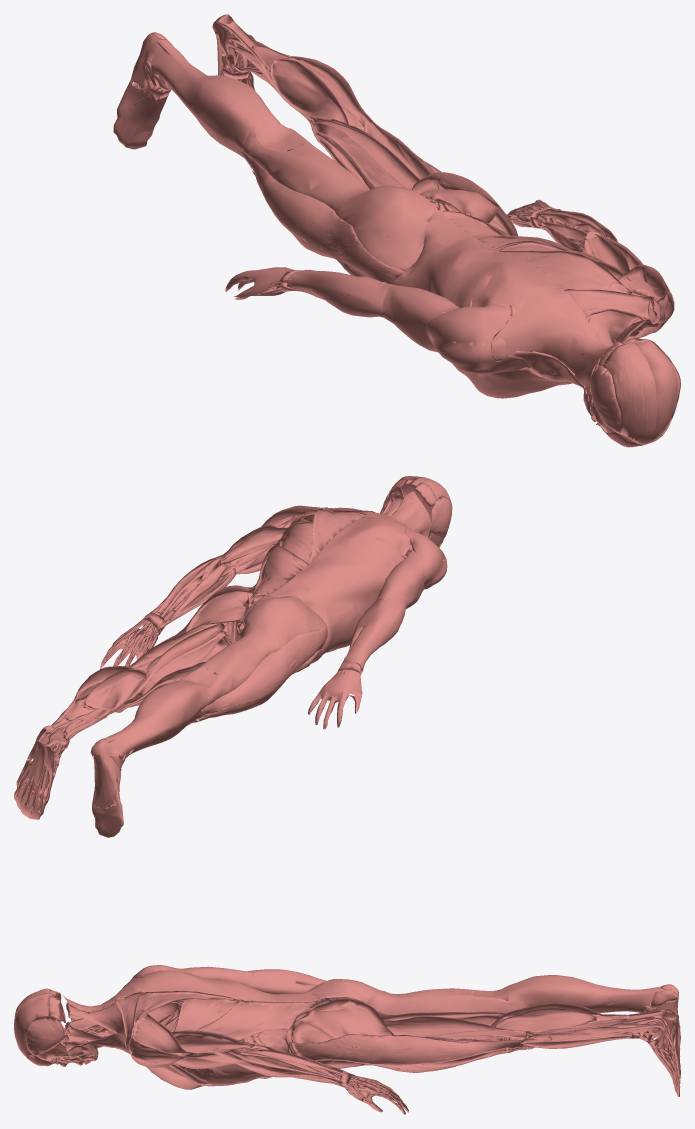
The model's file is overview__muscular.4a6a88096d.glb.
3 renders of one model, top to bottom at view 1: azimuth 30°, elevation 25°; view 2: azimuth 150°, elevation 25°; view 3: azimuth 270°, elevation 25°, orthographic. The views are drawn at different scales.
Parts seen in each view (by area): view 1: Fascia lata.r, Crural fascia.r, Investing abdominal fascia.r, Superficial investing cervical fascia.r, Iliotibial tract.r, Deltoid fascia.r, Epicranial aponeurosis.r, Antebrachial fascia.r, Medial head of gastrocnemius.l, Brachial fascia.r, Descending part of trapezius muscle.l, Gluteus maximus muscle.l (+16 smaller); view 2: Investing abdominal fascia.r, Fascia lata.r, Crural fascia.r, Iliotibial tract.r, Latissimus dorsi muscle.l, Antebrachial fascia.r, Gluteus maximus muscle.l, Medial head of gastrocnemius.l, Dorsal fascia of hand.r, Brachial fascia.r, Descending part of trapezius muscle.l, Deltoid fascia.r (+12 smaller); view 3: Iliotibial tract.l, Crural fascia.r, Latissimus dorsi muscle.l, Fascia lata.r, Gluteus maximus muscle.l, Investing abdominal fascia.r, Long head of biceps femoris.l, Lateral head of gastrocnemius.l, Antebrachial fascia.r, External abdominal oblique muscle.l, Scapular spinal part of deltoid muscle.l, Temporoparietalis muscle.l (+23 smaller).
Boxes of the visible parts, x1,y1,x2,y2 form: Fascia lata.r: (242, 128, 437, 277); Crural fascia.r: (113, 32, 283, 168); Investing abdominal fascia.r: (391, 209, 561, 375); Superficial investing cervical fascia.r: (493, 289, 611, 393); Iliotibial tract.r: (242, 150, 404, 283); Deltoid fascia.r: (425, 304, 529, 374); Epicranial aponeurosis.r: (602, 340, 657, 444); Antebrachial fascia.r: (287, 269, 395, 317); Medial head of gastrocnemius.l: (270, 59, 348, 124); Brachial fascia.r: (383, 285, 459, 352); Descending part of trapezius muscle.l: (499, 251, 632, 293); Gluteus maximus muscle.l: (413, 173, 498, 223); Investing abdominal fascia.r: (268, 517, 410, 663); Fascia lata.r: (179, 595, 325, 721); Crural fascia.r: (91, 680, 208, 837); Iliotibial tract.r: (194, 623, 327, 719); Latissimus dorsi muscle.l: (254, 521, 313, 595); Antebrachial fascia.r: (343, 591, 406, 668); Gluteus maximus muscle.l: (185, 586, 254, 631); Medial head of gastrocnemius.l: (83, 669, 146, 710); Dorsal fascia of hand.r: (308, 669, 362, 728); Brachial fascia.r: (378, 550, 425, 608); Descending part of trapezius muscle.l: (309, 507, 367, 563); Deltoid fascia.r: (405, 528, 447, 589); Iliotibial tract.l: (292, 1034, 528, 1065); Crural fascia.r: (508, 975, 680, 1060); Latissimus dorsi muscle.l: (173, 998, 317, 1039); Fascia lata.r: (305, 979, 507, 1014); Gluteus maximus muscle.l: (299, 998, 394, 1038); Investing abdominal fascia.r: (141, 970, 318, 1001); Long head of biceps femoris.l: (383, 1016, 527, 1038); Lateral head of gastrocnemius.l: (493, 1008, 596, 1038); Antebrachial fascia.r: (242, 969, 326, 994); External abdominal oblique muscle.l: (186, 1030, 291, 1085); Scapular spinal part of deltoid muscle.l: (132, 1013, 192, 1055); Temporoparietalis muscle.l: (25, 1016, 65, 1055).
Size of the model in its own units: 1287 by 260 by 1647.
